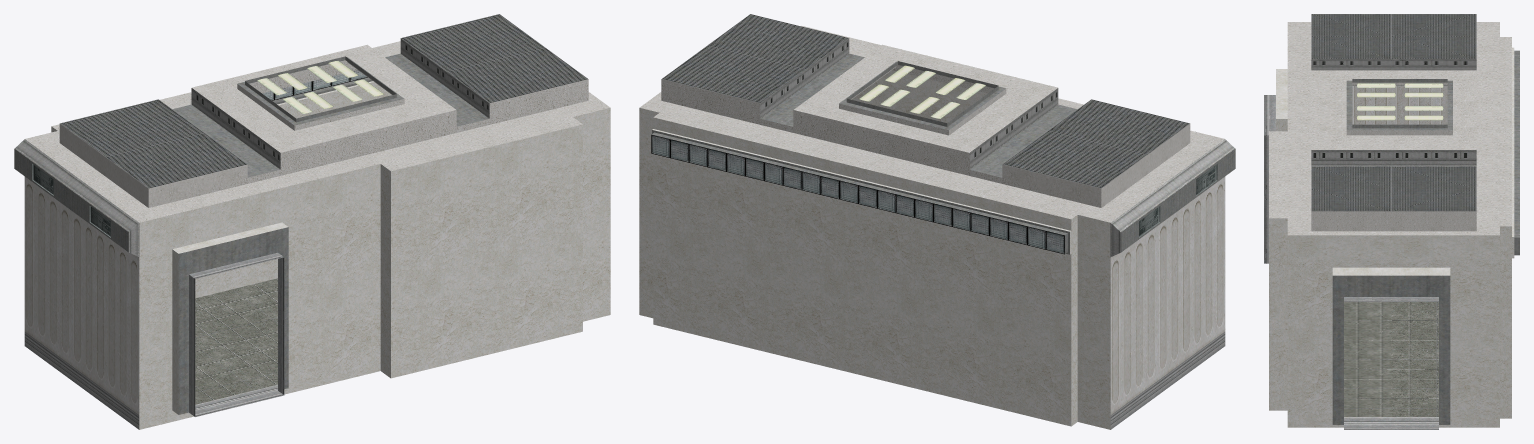
File: ply_all_house_lg_s02_fp1_r2_hallway_mesh_r2.fbx
The picture shows the model from 3 angles, left to right: view 1: azimuth 30°, elevation 25°; view 2: azimuth 150°, elevation 25°; view 3: azimuth 270°, elevation 25°; orthographic projection. The views are drawn at different scales.
Visible parts, largest first — view 1: mesh_node; view 2: mesh_node; view 3: mesh_node.
Boxes of the visible parts, x1=… form: mesh_node: x1=14, y1=14, x2=610, y2=429; mesh_node: x1=639, y1=14, x2=1235, y2=429; mesh_node: x1=1264, y1=14, x2=1519, y2=429.
Size of the model in its own units: 11.6 by 5.2 by 5.42.
